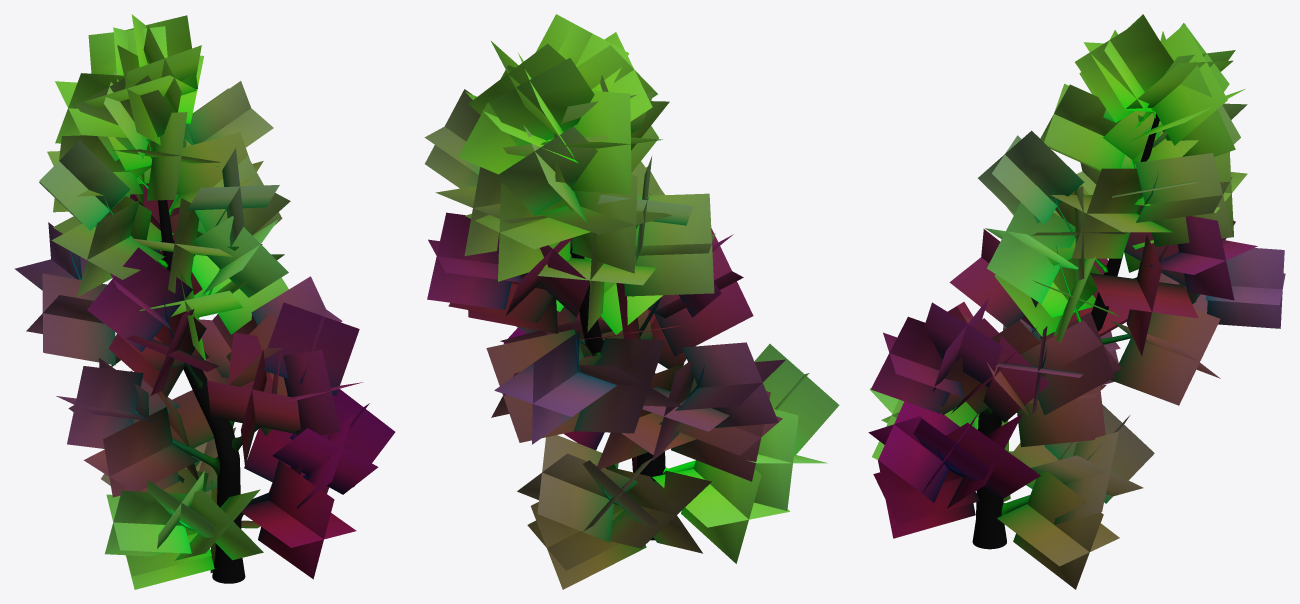
The model's file is URP_P7_Tree_12_LOD_0.fbx.
3 renders of one model, left to right at view 1: azimuth 30°, elevation 25°; view 2: azimuth 150°, elevation 25°; view 3: azimuth 270°, elevation 25°, orthographic. The views are drawn at different scales.
Parts seen in each view (by area): view 1: Tree_12_LOD_0; view 2: Tree_12_LOD_0; view 3: Tree_12_LOD_0.
Boxes of the visible parts, box(x1,y1,x2,y2) form: Tree_12_LOD_0: box(14, 14, 395, 589); Tree_12_LOD_0: box(424, 14, 839, 589); Tree_12_LOD_0: box(868, 14, 1285, 589).
Size of the model in its own units: 231 by 422 by 290.
